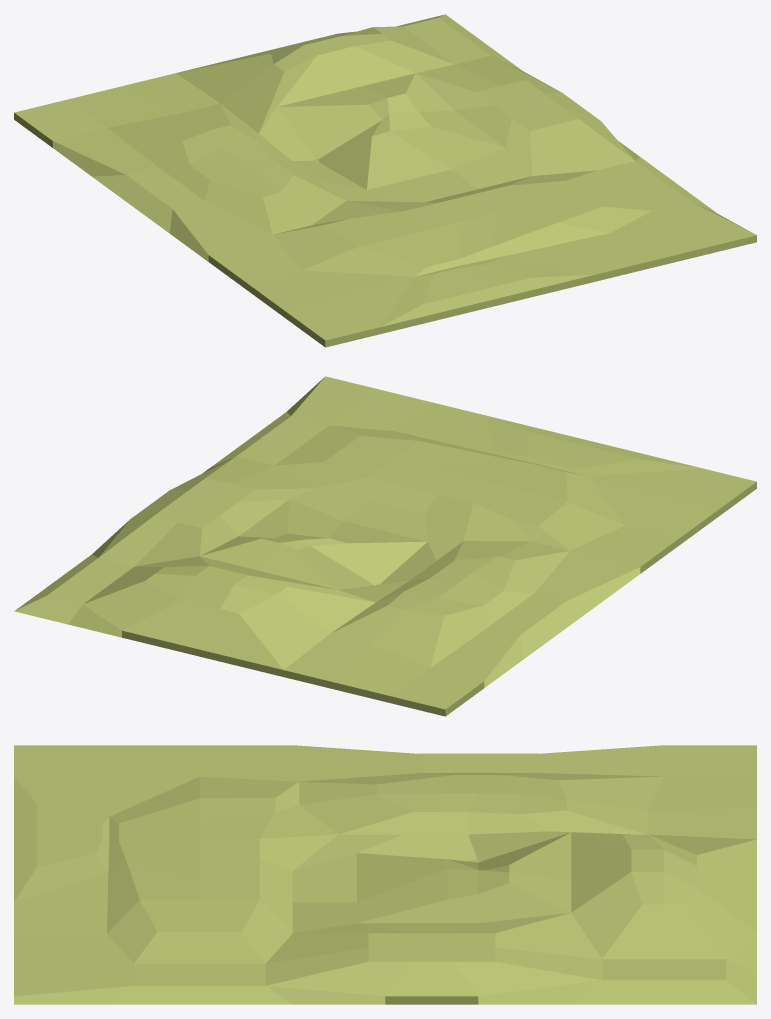
File: Sand.fbx
3 renders of one model, top to bottom at view 1: azimuth 30°, elevation 25°; view 2: azimuth 150°, elevation 25°; view 3: azimuth 270°, elevation 25°, orthographic. The views are drawn at different scales.
Visible parts, largest first — view 1: Cube; view 2: Cube; view 3: Cube.
Boxes of the visible parts, x1=… form: Cube: x1=14, y1=14, x2=756, y2=347; Cube: x1=14, y1=376, x2=756, y2=716; Cube: x1=14, y1=745, x2=756, y2=1004.
Size of the model in its own units: 12800 by 1205 by 16000.
